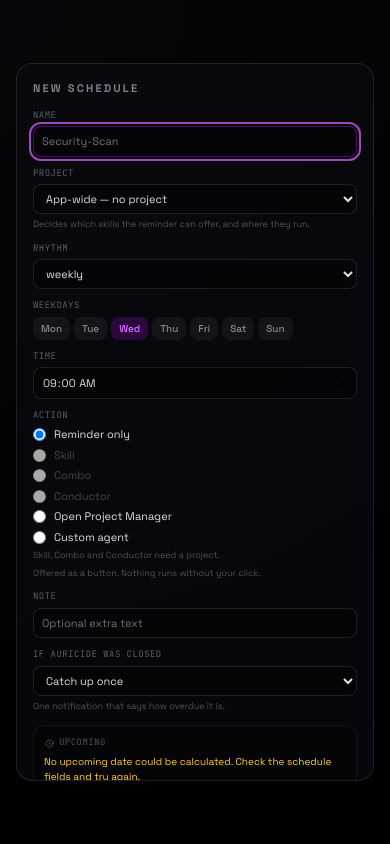
ScheduleEditor: open a Project Manager › says what Auto does, and writes launch auto
Click the radio button with test id "schedule-action-manager" at (40, 517), box x1=33 y1=510 x2=46 y2=523
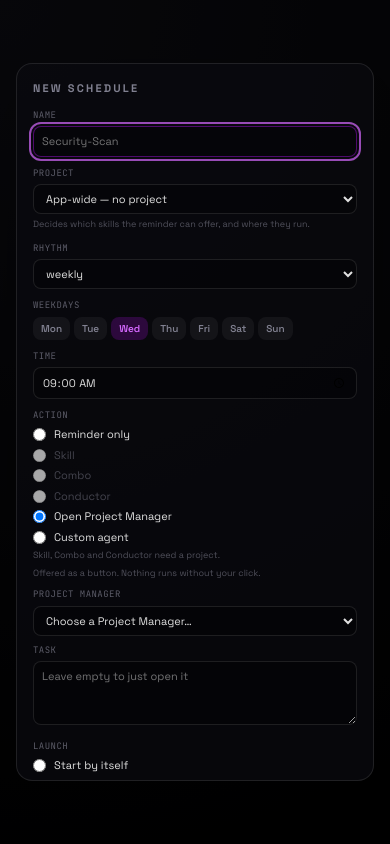
Select "Release Desk" in the dropdown with test id "schedule-manager" at (195, 621), box x1=33 y1=606 x2=357 y2=636
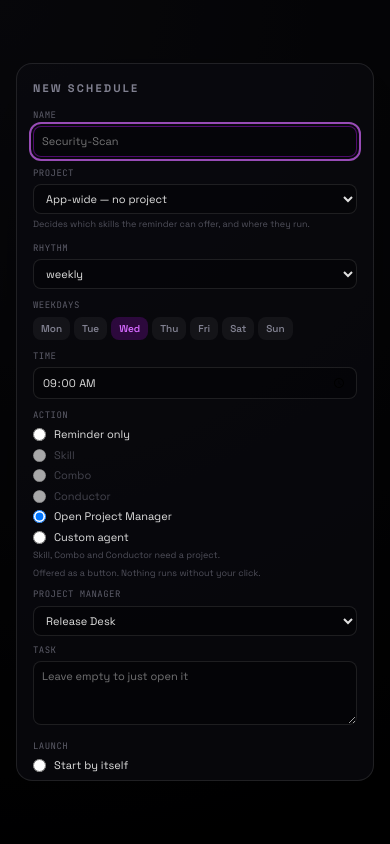
Click the radio button with test id "schedule-manager-launch-auto" at (40, 766), box x1=33 y1=759 x2=46 y2=772
(page scrolled)
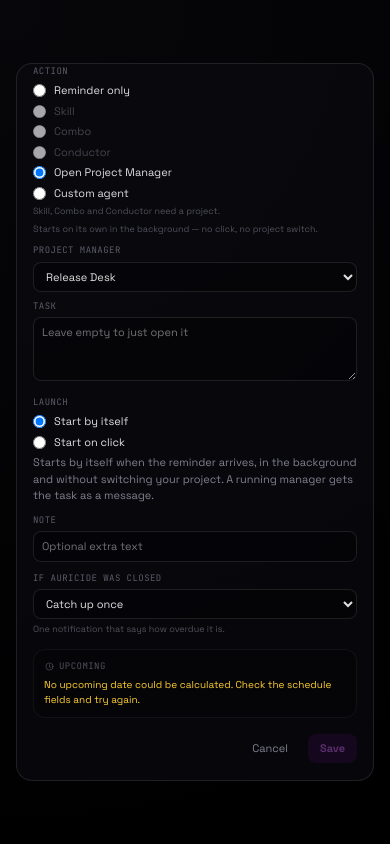
Expected: the text with test id "schedule-manager-auto-hint" shows "without switching your project", x1=33 y1=455 x2=356 y2=502
